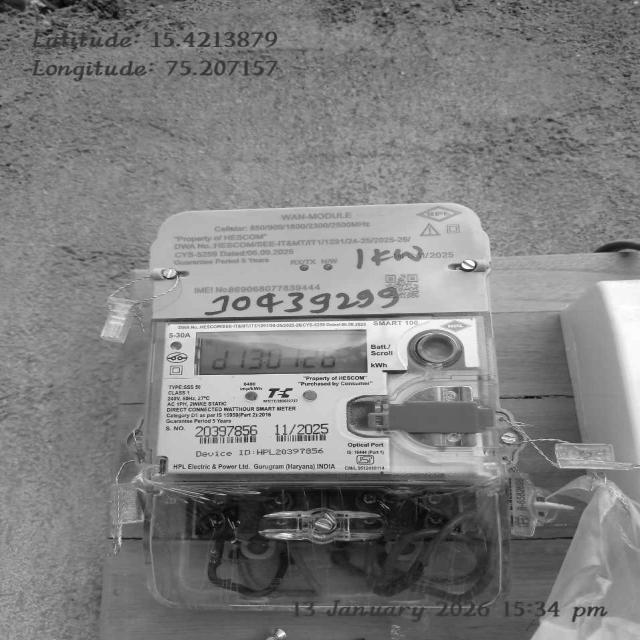meter: (152, 212, 486, 477)
